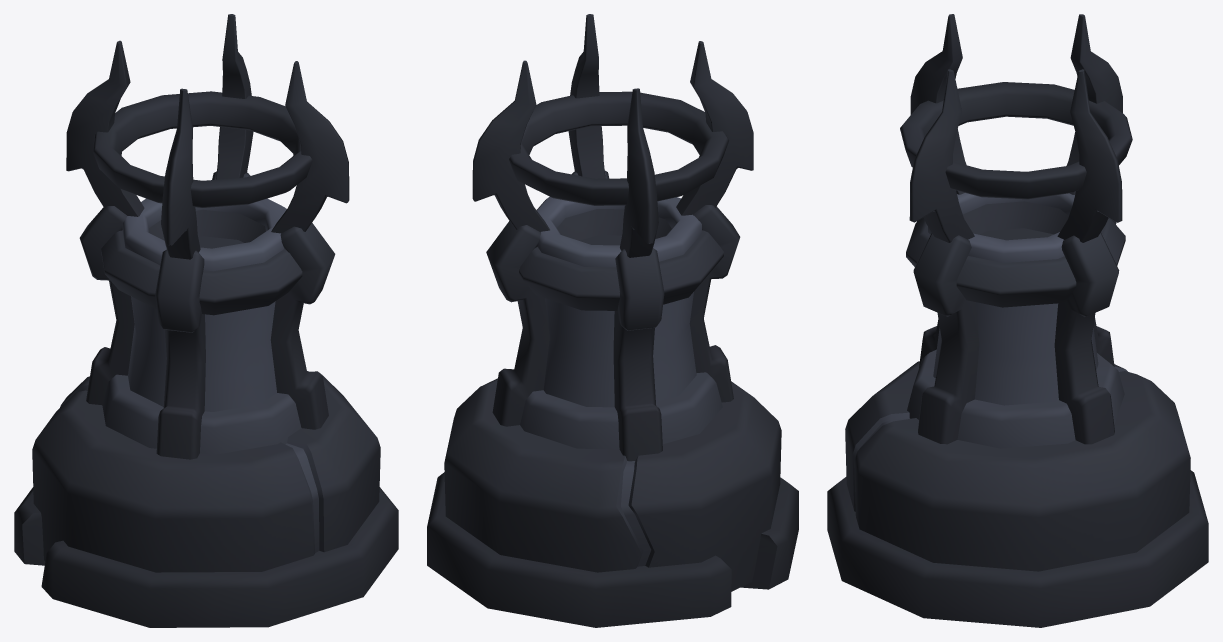
Rendered from Brazier.fbx.
3 renders of one model, left to right at view 1: azimuth 30°, elevation 25°; view 2: azimuth 150°, elevation 25°; view 3: azimuth 270°, elevation 25°, orthographic.
Visible parts, largest first — view 1: Brazier_2, Brazier_1, Brazier_3; view 2: Brazier_2, Brazier_1, Brazier_3; view 3: Brazier_2, Brazier_1, Brazier_3.
Part boxes in pixels (x1=…): Brazier_2: x1=14, y1=371, x2=398, y2=627; Brazier_1: x1=79, y1=171, x2=335, y2=459; Brazier_3: x1=66, y1=14, x2=349, y2=259; Brazier_2: x1=427, y1=378, x2=798, y2=627; Brazier_1: x1=486, y1=170, x2=740, y2=461; Brazier_3: x1=472, y1=14, x2=753, y2=257; Brazier_2: x1=827, y1=361, x2=1208, y2=627; Brazier_1: x1=906, y1=193, x2=1125, y2=448; Brazier_3: x1=900, y1=14, x2=1132, y2=242.
Size of the model in its own units: 82.44 by 120 by 81.46.
Materials: 1 (1 with a texture image).
